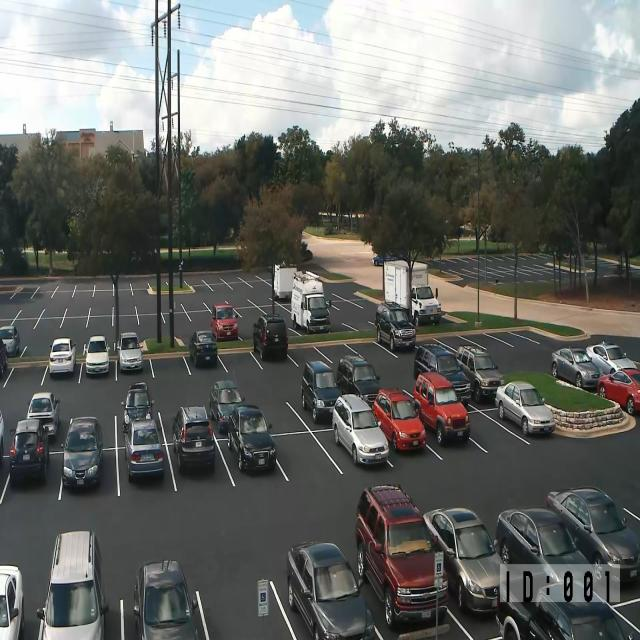car: (356, 483, 448, 629), (494, 507, 601, 605), (546, 486, 640, 584), (286, 540, 376, 640), (423, 507, 503, 615), (36, 530, 109, 639), (496, 592, 639, 640), (133, 559, 199, 639), (414, 371, 471, 446), (332, 393, 389, 466), (413, 342, 471, 406), (372, 387, 427, 452), (495, 381, 556, 436), (227, 404, 276, 472), (60, 415, 103, 489), (172, 405, 215, 472), (456, 345, 504, 402), (301, 359, 342, 424), (9, 418, 49, 483), (123, 417, 164, 480), (336, 353, 381, 408), (550, 346, 602, 389), (375, 301, 416, 351), (597, 368, 640, 415), (209, 379, 245, 433), (0, 564, 24, 639), (121, 381, 154, 434), (586, 341, 637, 375), (252, 314, 288, 360), (26, 391, 60, 439), (411, 284, 441, 326), (116, 331, 143, 372), (83, 335, 110, 376), (189, 330, 218, 368), (211, 303, 238, 342), (49, 337, 76, 375), (0, 324, 20, 356), (373, 253, 396, 266), (0, 337, 7, 378), (0, 409, 4, 466)
